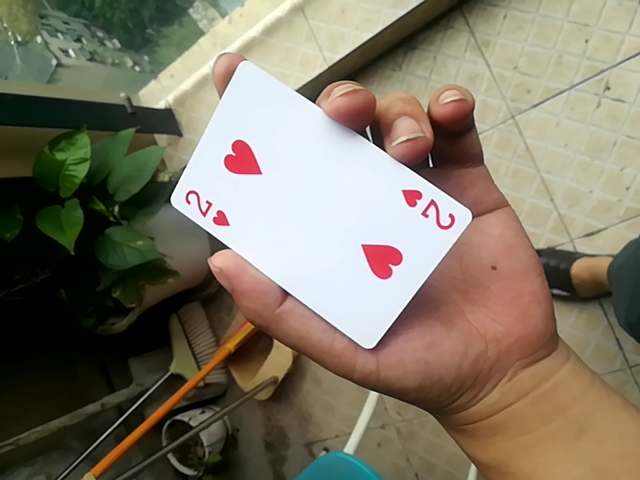hx 2: (165, 61, 471, 355)
